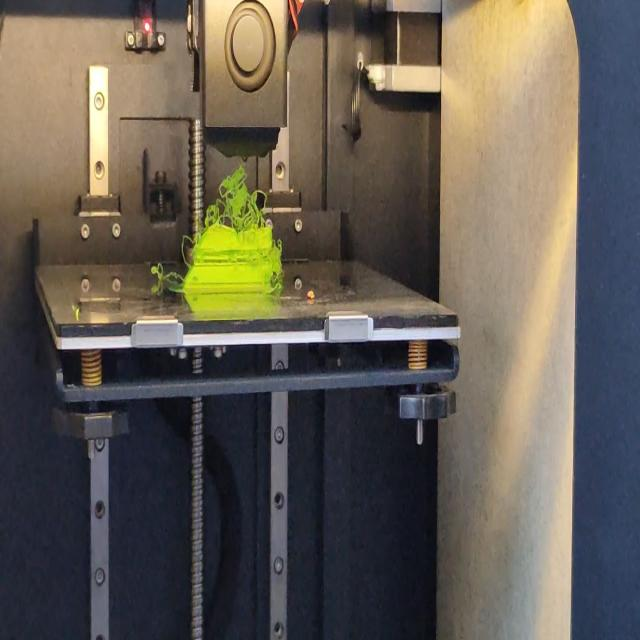spaghetti: (202, 167, 266, 229), (152, 261, 186, 282), (182, 222, 196, 270), (271, 279, 284, 290)
